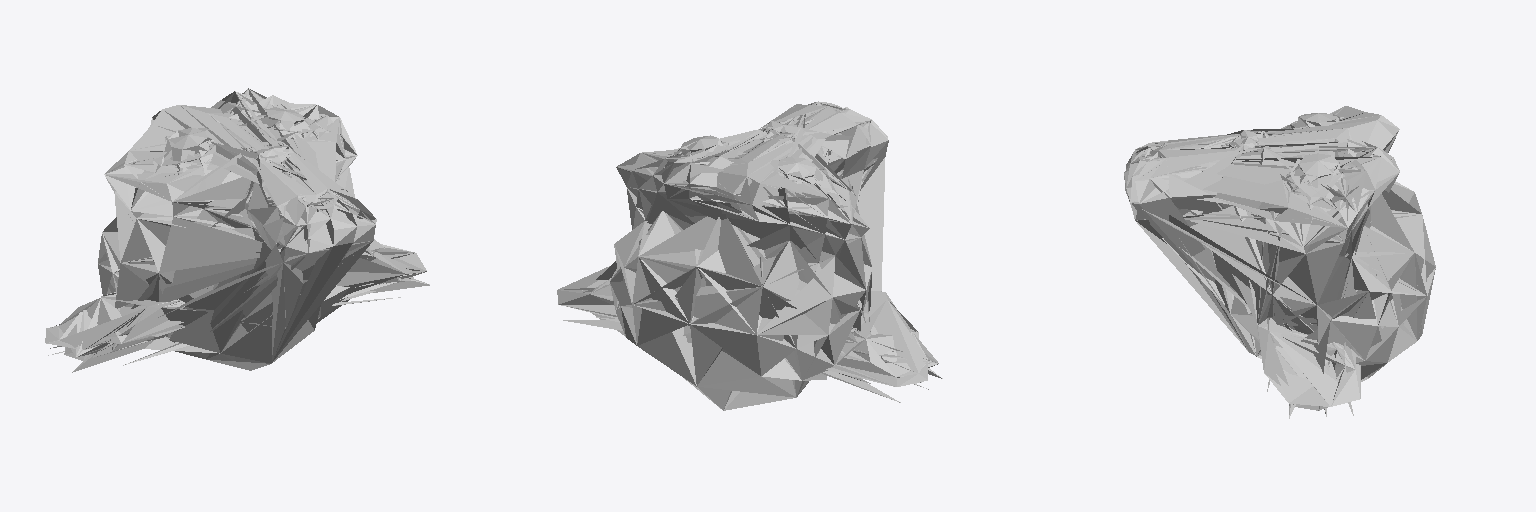
Rendered from suzanne_subsurf.obj.
The picture shows the model from 3 angles: view 1: azimuth 30°, elevation 25°; view 2: azimuth 150°, elevation 25°; view 3: azimuth 270°, elevation 25°; orthographic projection.
Parts seen in each view (by area): view 1: suzanne; view 2: suzanne; view 3: suzanne.
Boxes of the visible parts, x1=… form: suzanne: x1=45, y1=88, x2=429, y2=372; suzanne: x1=557, y1=101, x2=942, y2=410; suzanne: x1=1124, y1=106, x2=1435, y2=418.
Bounding box in the file's own units: 2.73 × 1.7 × 1.97.